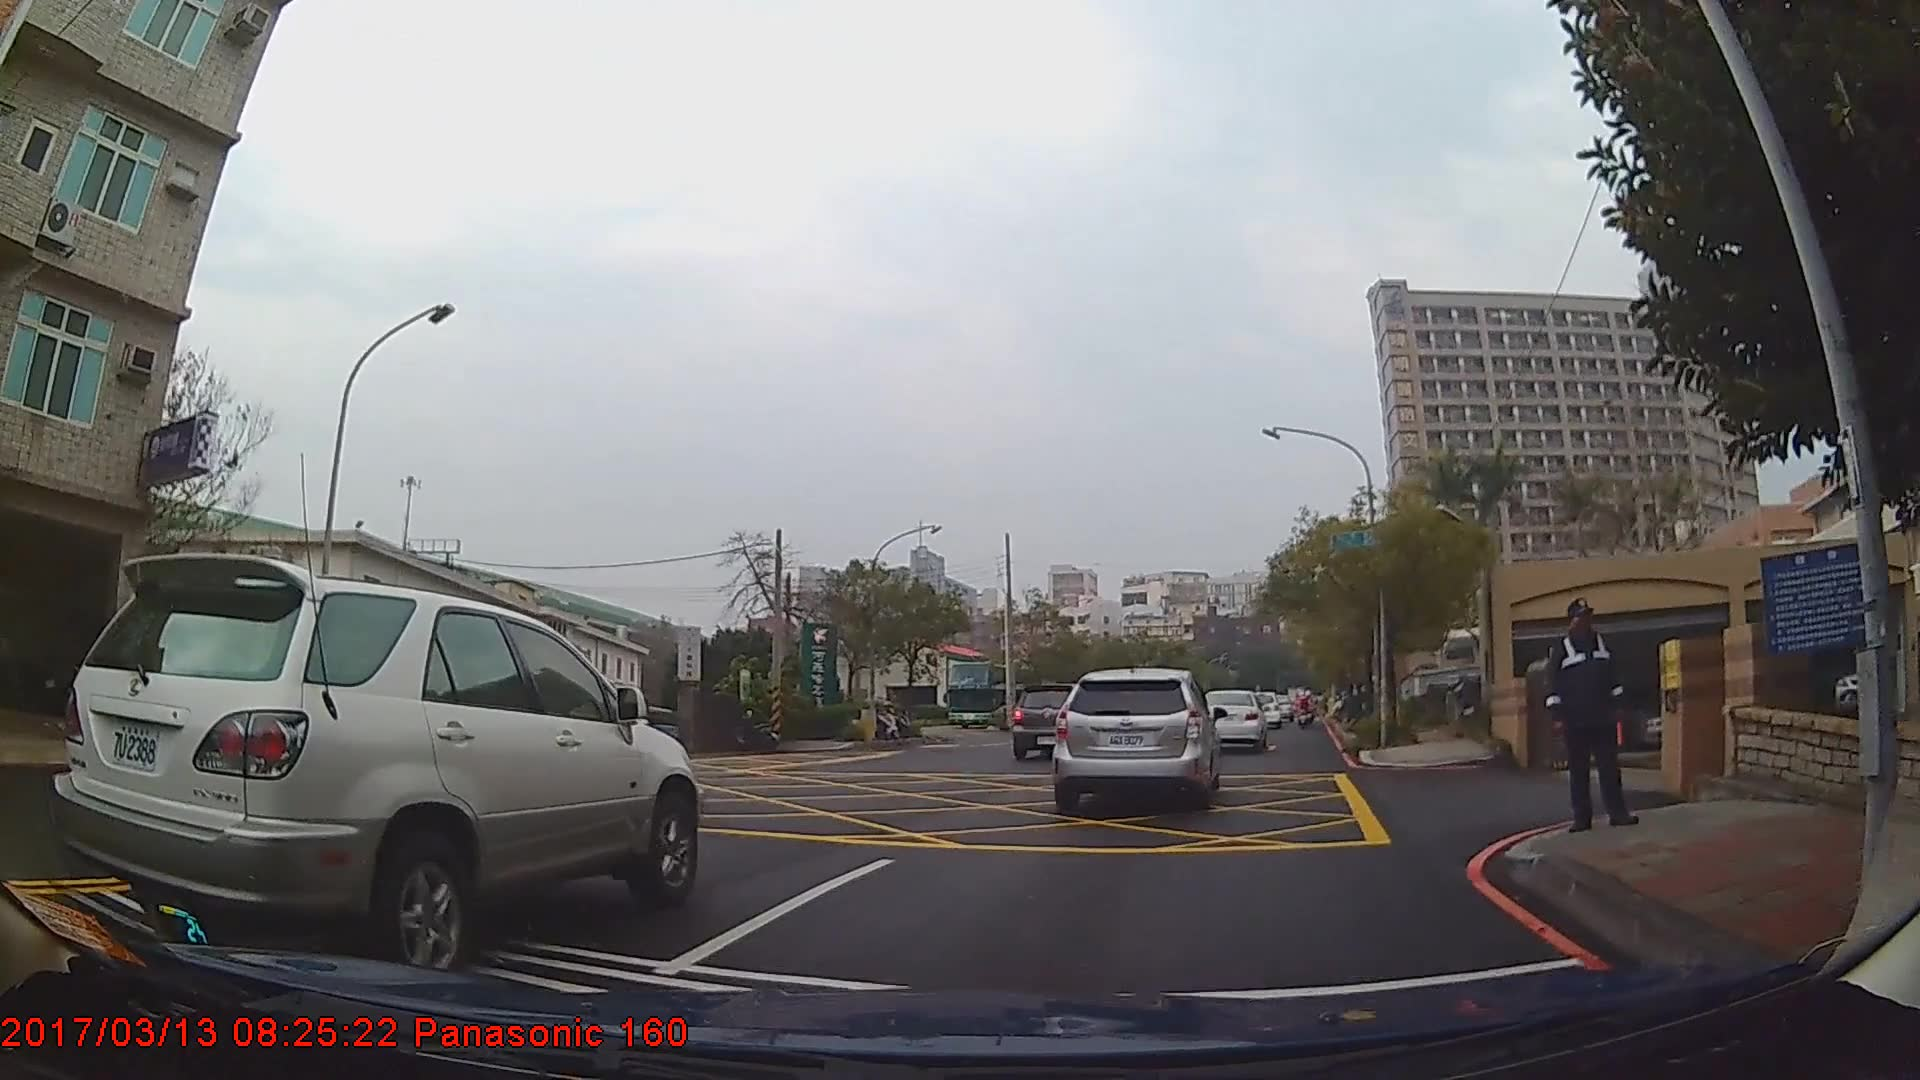pedestrian: (1543, 596, 1637, 831)
vehicle: (50, 549, 700, 971), (1050, 662, 1218, 806), (1006, 681, 1099, 755), (944, 660, 1044, 727), (1197, 685, 1267, 747)
